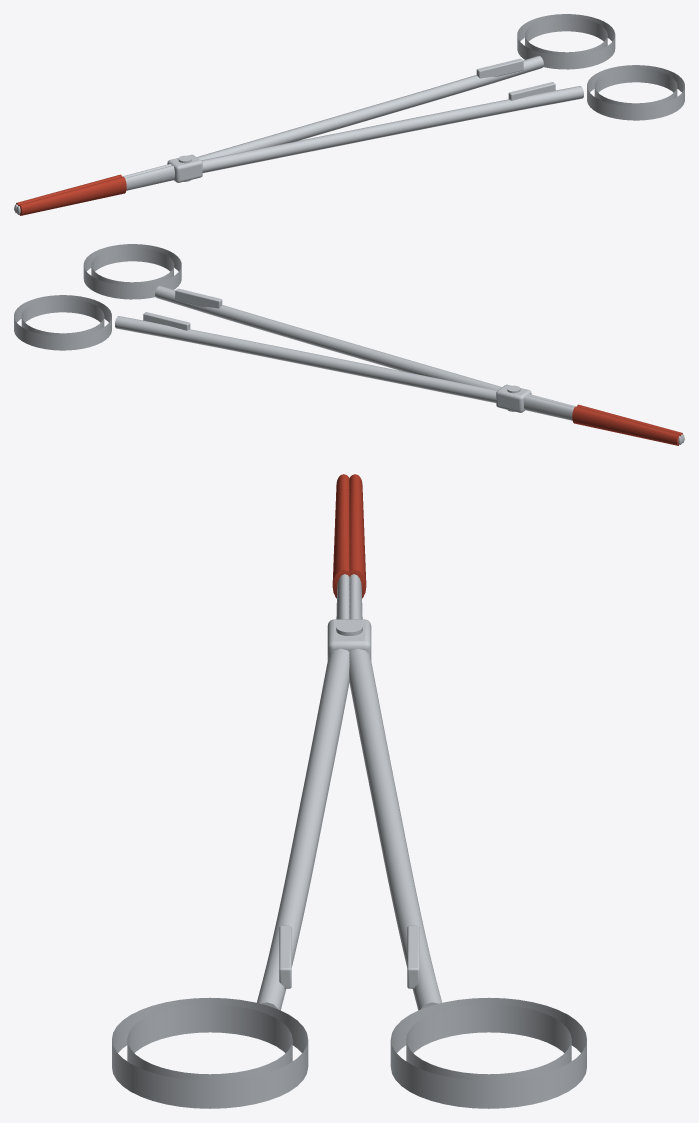
File: hemostat.glb
The picture shows the model from 3 angles, top to bottom: view 1: azimuth 30°, elevation 25°; view 2: azimuth 150°, elevation 25°; view 3: azimuth 270°, elevation 25°; orthographic projection. The views are drawn at different scales.
Parts seen in each view (by area): view 1: Shank-1, Shank1, RingBand-1, RingBand1, RingInner-1, Shod-1, RingInner1, Jaw-1, BoxLock, Ratchet1, Ratchet-1, Shod1; view 2: Shank1, Shank-1, RingBand1, RingBand-1, RingInner1, Shod1, RingInner-1, Jaw1, BoxLock, Ratchet-1, Ratchet1, Shod-1; view 3: Shank1, Shank-1, RingBand1, RingBand-1, RingInner1, RingInner-1, Shod1, Shod-1, BoxLock.
Part boxes in pixels (<box>): Shank-1: <box>201,86,583,172</box>; Shank1: <box>197,56,543,160</box>; RingBand-1: <box>587,65,684,120</box>; RingBand1: <box>517,14,615,69</box>; RingInner-1: <box>594,68,677,106</box>; Shod-1: <box>19,177,126,215</box>; RingInner1: <box>525,17,607,55</box>; Jaw-1: <box>16,165,174,214</box>; BoxLock: <box>167,154,202,182</box>; Ratchet1: <box>476,58,523,78</box>; Ratchet-1: <box>508,82,555,100</box>; Shod1: <box>16,174,122,213</box>; Shank1: <box>115,316,497,402</box>; Shank-1: <box>155,286,501,390</box>; RingBand1: <box>14,295,111,350</box>; RingBand-1: <box>83,244,181,299</box>; RingInner1: <box>21,298,104,336</box>; Shod1: <box>572,407,679,445</box>; RingInner-1: <box>91,247,173,285</box>; Jaw1: <box>524,395,682,444</box>; BoxLock: <box>496,384,531,412</box>; Ratchet-1: <box>175,288,222,308</box>; Ratchet1: <box>143,312,190,330</box>; Shod-1: <box>576,404,682,443</box>; Shank1: <box>349,648,441,1010</box>; Shank-1: <box>257,648,349,1010</box>; RingBand1: <box>390,997,586,1108</box>; RingBand-1: <box>112,997,308,1108</box>; RingInner1: <box>406,1004,571,1080</box>; RingInner-1: <box>127,1004,292,1080</box>; Shod1: <box>349,474,366,598</box>; Shod-1: <box>332,474,349,598</box>; BoxLock: <box>327,619,371,659</box>.
Size of the model in its own units: 140 by 4.7 by 46.
